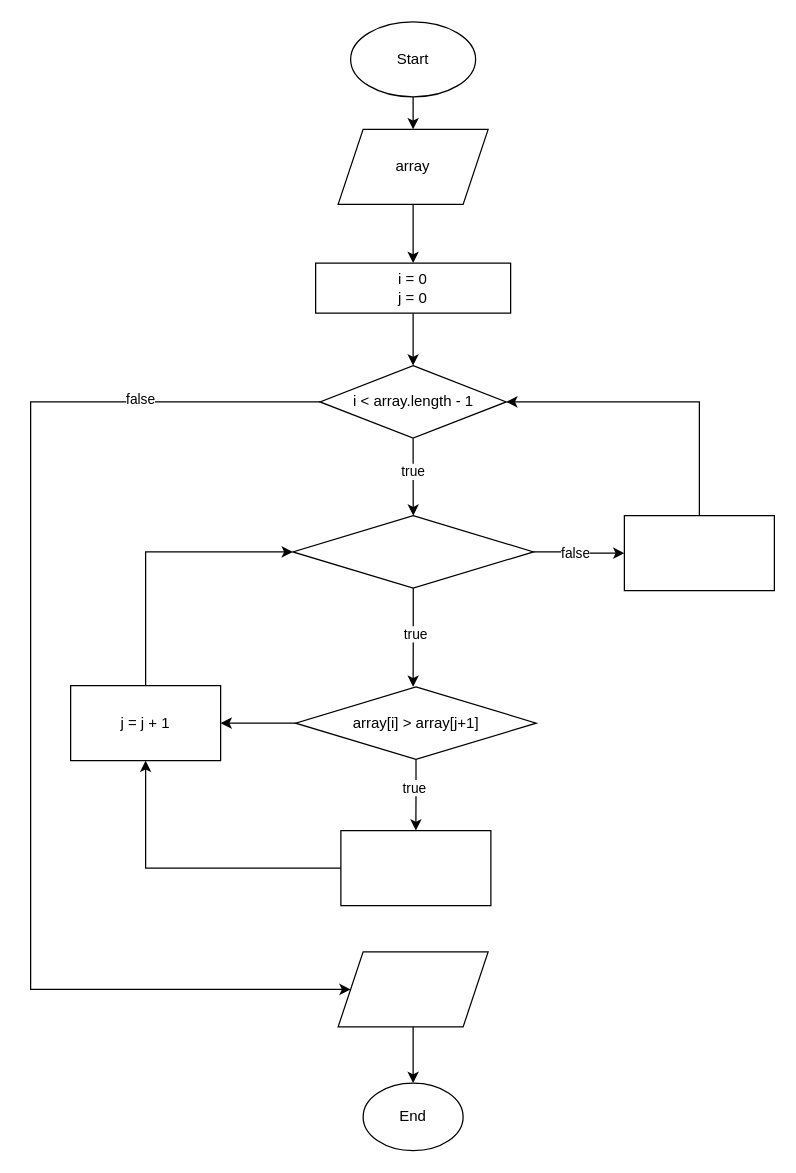
This 796x1173 diagram has some shape labels left out. The shapes that lost their labels are listed below. From the top down, each one's centre as x and y in pixels, then its label:
(413,551): j < array.length - 1
(698,552): i = i + 1
(415,867): temp = array[j] array[j] = array[j+1] array[j+1] = temp
(412,989): print array
